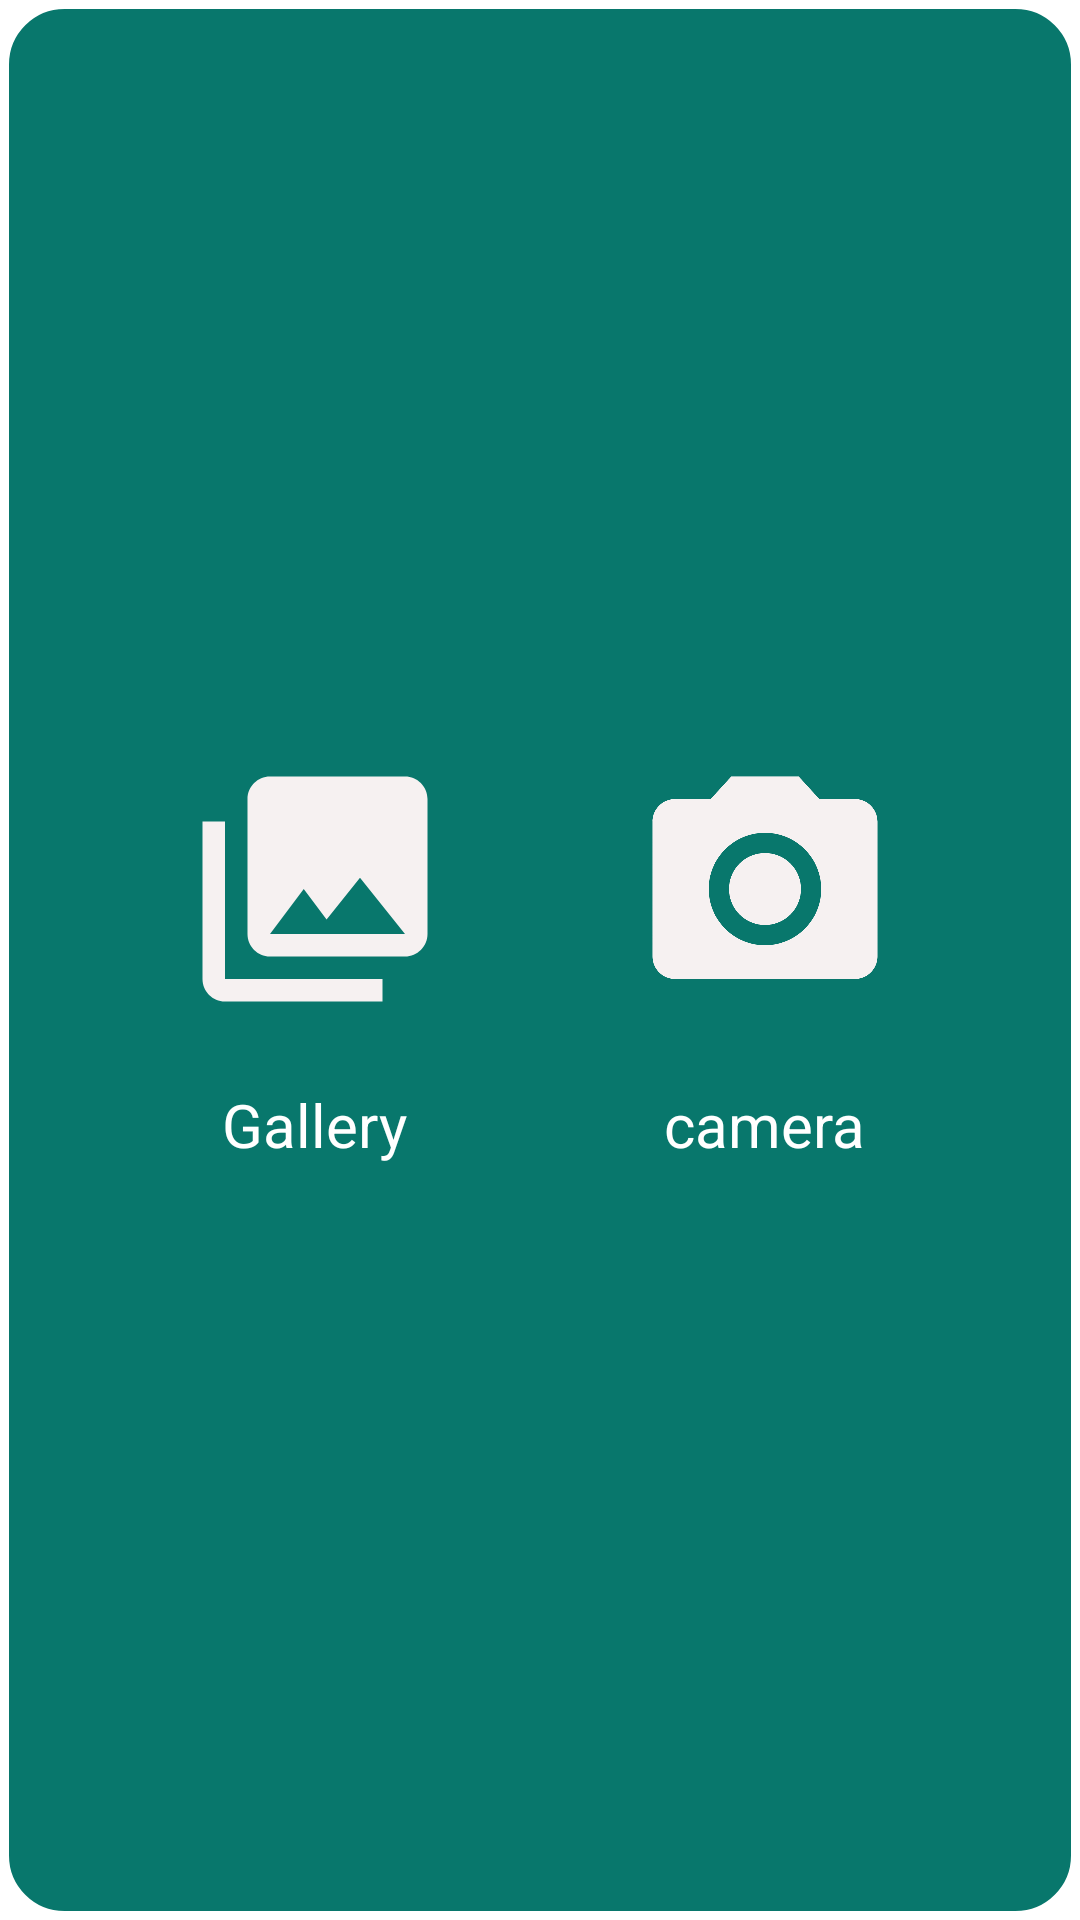

Icons on this 1080px x 1920px Android screen, each with its box as box(x1, y1, x2, y2):
photo library: box(202, 776, 428, 1002)
